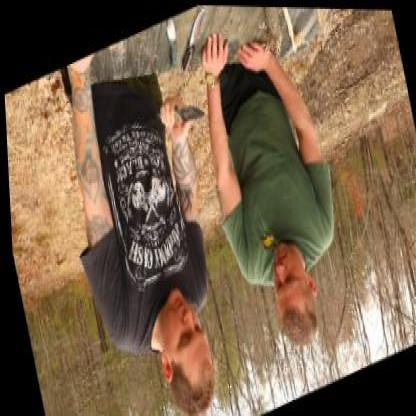knife: (154, 74, 214, 148)
